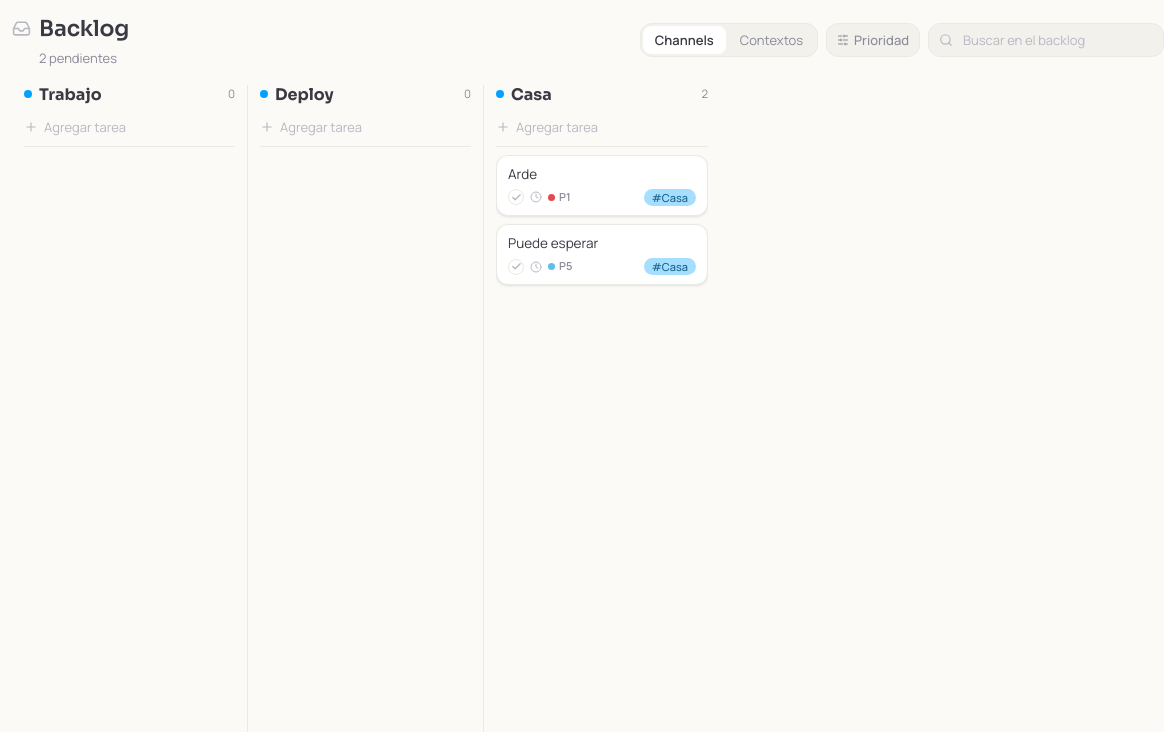
Test: BacklogView · un grupo por columna › filtra por prioridad, y el contador dice cuántas de cuántas quedaron
Expected: the element with class "backlog__col" showing "Trabajo 0 Agregar tarea" is shown, [12, 84, 248, 731]
Click the button with aria-label "Filtrar por prioridad" at (873, 40), box [826, 23, 920, 57]
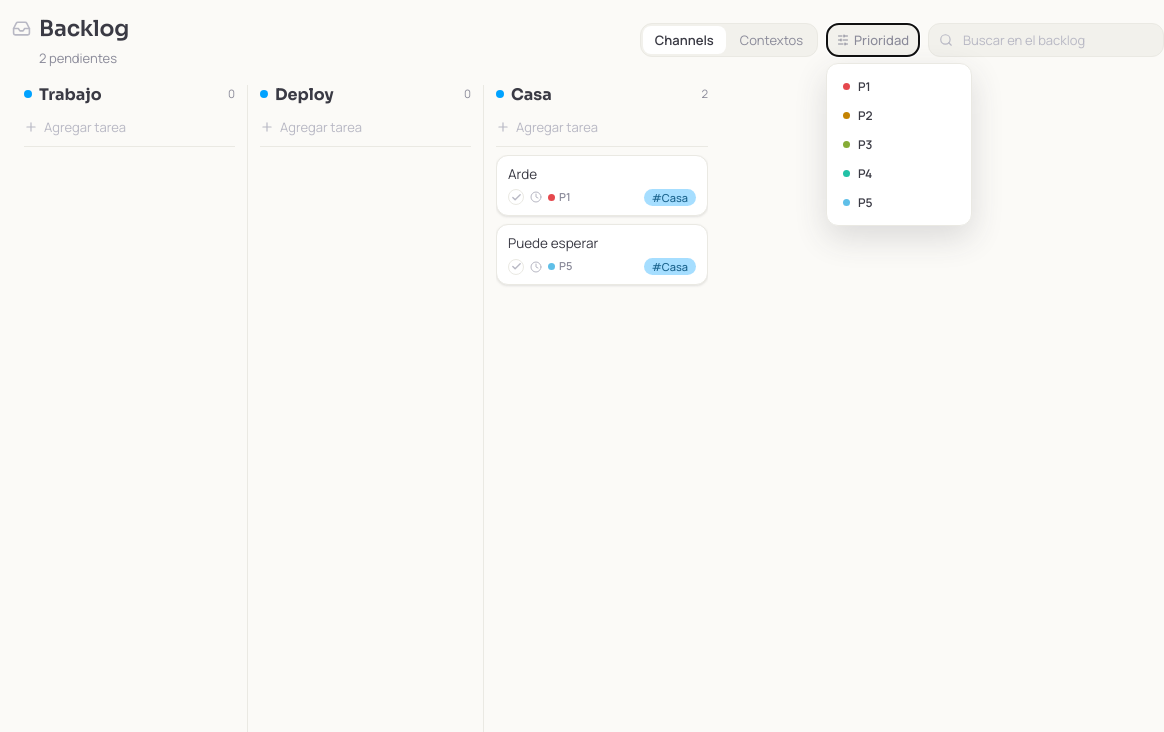
Click the button "P1" at (899, 87), box [835, 72, 963, 101]
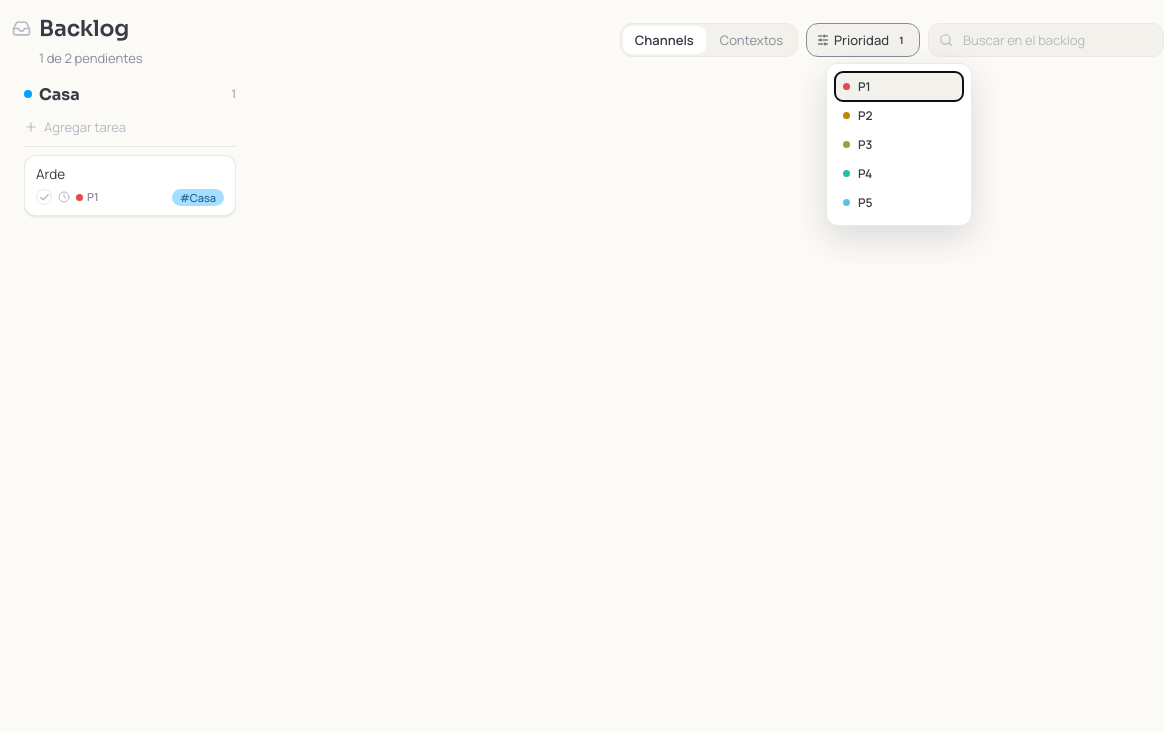
Expected: the text "Arde" is shown, [36, 165, 65, 183]
Expected: the text "Puede esperar" is gone
Expected: the text "1 de 2 pendientes" is shown, [39, 49, 143, 67]
